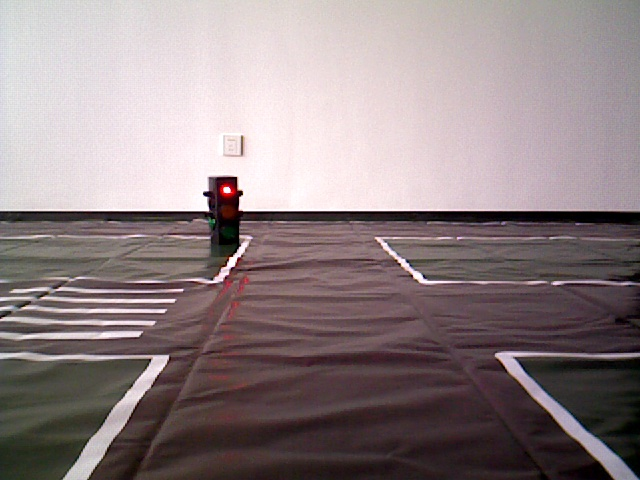red: (207, 180, 238, 243)
